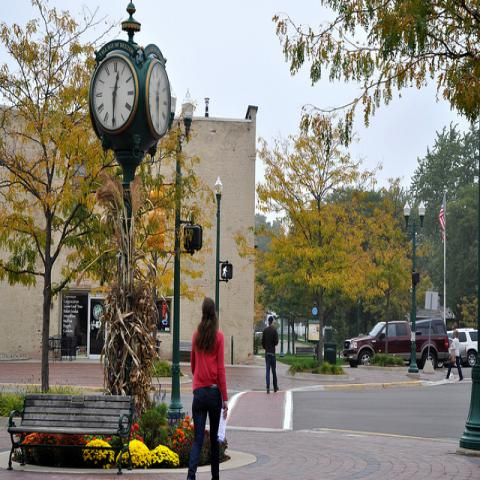car: (416, 318, 450, 370), (457, 330, 478, 366)
truck: (342, 320, 449, 368)
